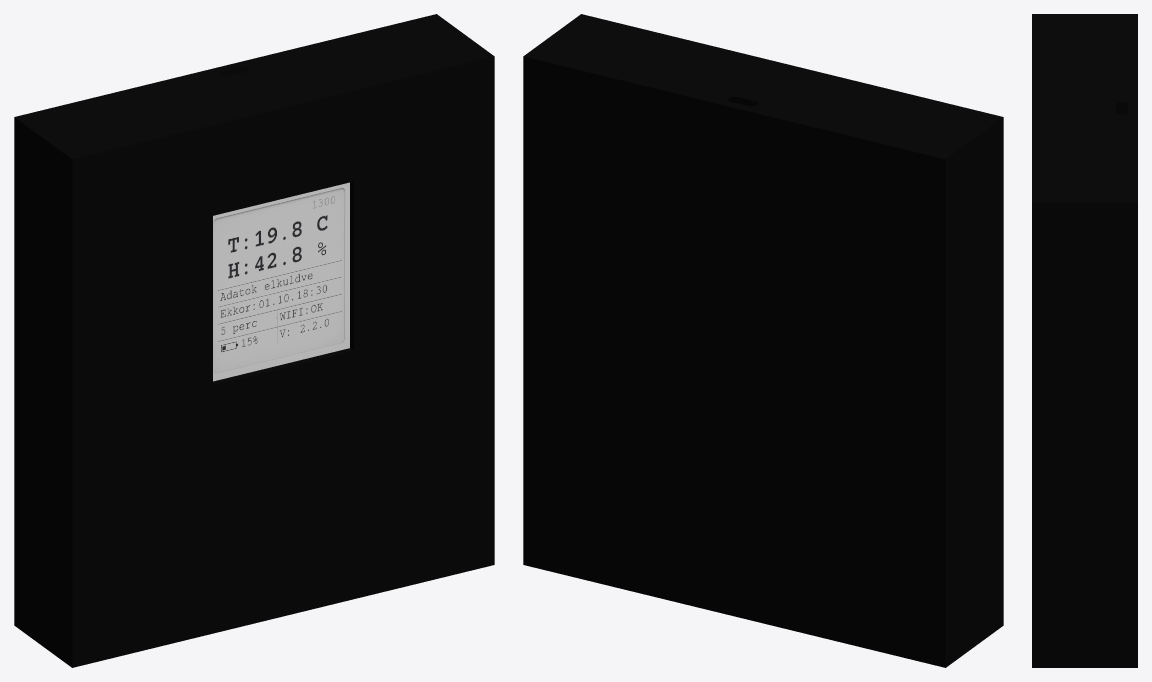
Rendered from fekete_fekete.glb.
3 views of the same model, side by side, from view 1: azimuth 30°, elevation 25°; view 2: azimuth 150°, elevation 25°; view 3: azimuth 270°, elevation 25° (orthographic). The views are drawn at different scales.
Visible parts, largest first — view 1: Cube; view 2: Cube; view 3: Cube.
Boxes of the visible parts, x1,y1,x2,y2 form: Cube: [14, 14, 494, 667]; Cube: [523, 14, 1003, 667]; Cube: [1032, 14, 1137, 667].
Size of the model in its own units: 0.2909 by 0.3347 by 0.0691.
2 materials, 1 textured.
